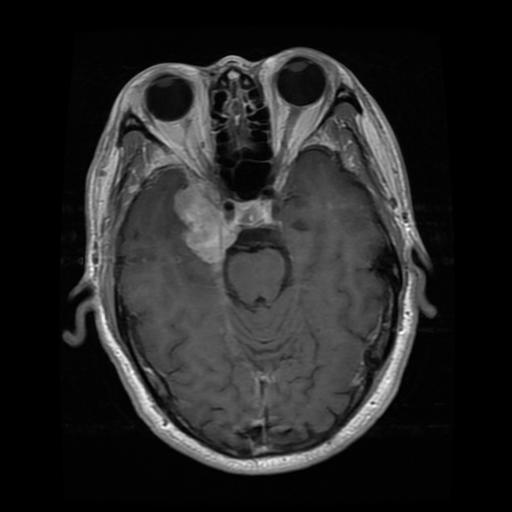Menigiomia_tumour: (171, 177, 237, 260)
